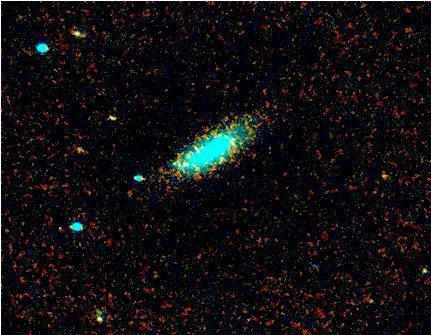star: (368, 162, 398, 192)
